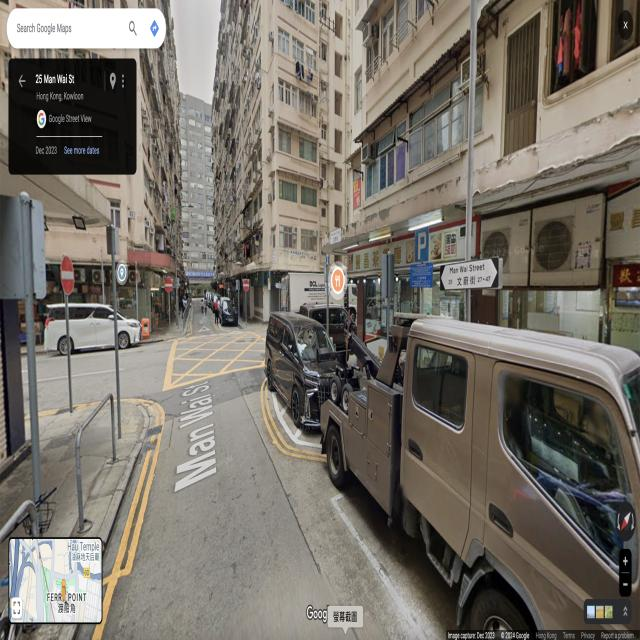Order-Sign: (60, 254, 74, 294), (165, 279, 172, 292), (243, 279, 249, 292)
Street-Direction-Sign: (440, 257, 499, 289)
